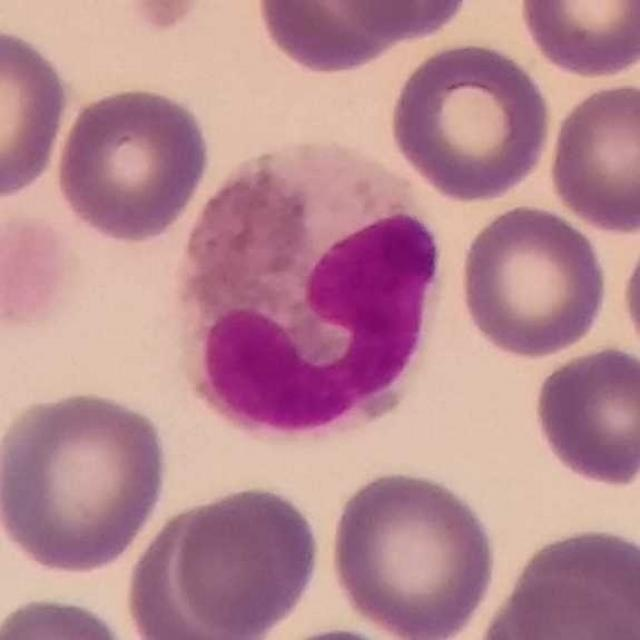eosino: (169, 140, 440, 447)
